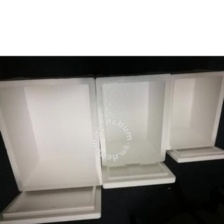foam_box: (0, 73, 105, 224), (91, 70, 178, 192), (161, 67, 224, 166)
